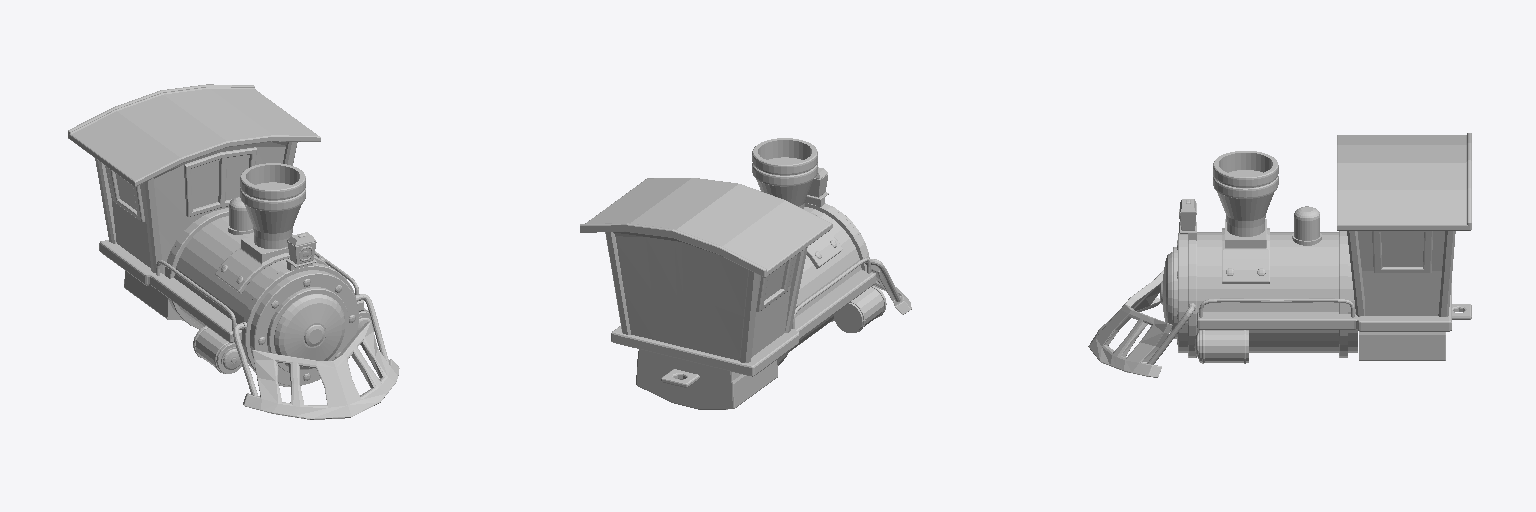
The model's file is SM_train.obj.
The picture shows the model from 3 angles: view 1: azimuth 30°, elevation 25°; view 2: azimuth 150°, elevation 25°; view 3: azimuth 270°, elevation 25°; orthographic projection.
Parts seen in each view (by area): view 1: cabine, nez, devant, cheminer, sol, socle_cheminer, nez.003, poutre, nez.001, poutre.003, lampe; view 2: cabine, sol, cheminer, nez, nez.003, poutre.003, poutre.002, socle_cheminer, poutre, nez.001; view 3: cabine, nez, sol, cheminer, devant, socle_cheminer, nez.002, lampe, poutre.002, poutre.001, rambarde.001, nez.001.
Part boxes in pixels (x1,y1,x2,y2): cabine: (68,84,320,271); nez: (165,208,358,386); devant: (243,321,399,419); cheminer: (240,163,305,248); sol: (99,240,363,342); socle_cheminer: (215,235,327,293); nez.003: (193,326,241,373); poutre: (142,178,162,273); nez.001: (286,232,316,270); poutre.003: (95,158,116,243); lampe: (228,197,253,234); cabine: (580,178,832,360); sol: (611,270,875,409); cheminer: (752,138,817,208); nez: (777,203,869,365); nez.003: (834,286,886,332); poutre.003: (739,270,759,362); poutre.002: (605,232,630,334); socle_cheminer: (806,213,842,268); poutre: (785,247,807,332); nez.001: (805,167,828,206); cabine: (1337,133,1471,315); nez: (1160,231,1357,357); sol: (1197,283,1471,360); cheminer: (1213,151,1278,236); devant: (1088,270,1172,377); socle_cheminer: (1222,219,1269,283); nez.002: (1194,330,1248,363); lampe: (1292,206,1321,245); poutre.002: (1438,231,1455,316); poutre.001: (1347,231,1364,316); rambarde.001: (1199,298,1354,317); nez.001: (1179,199,1196,240).
Size of the model in its own units: 5.3 by 5.23 by 9.48.